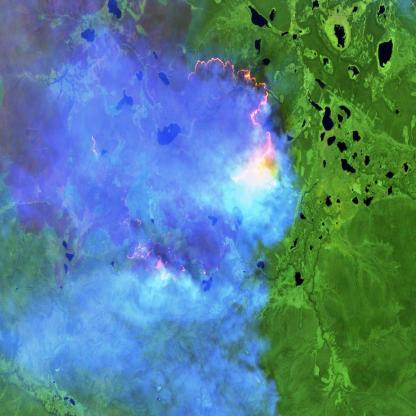fire: (169, 44, 291, 215)
